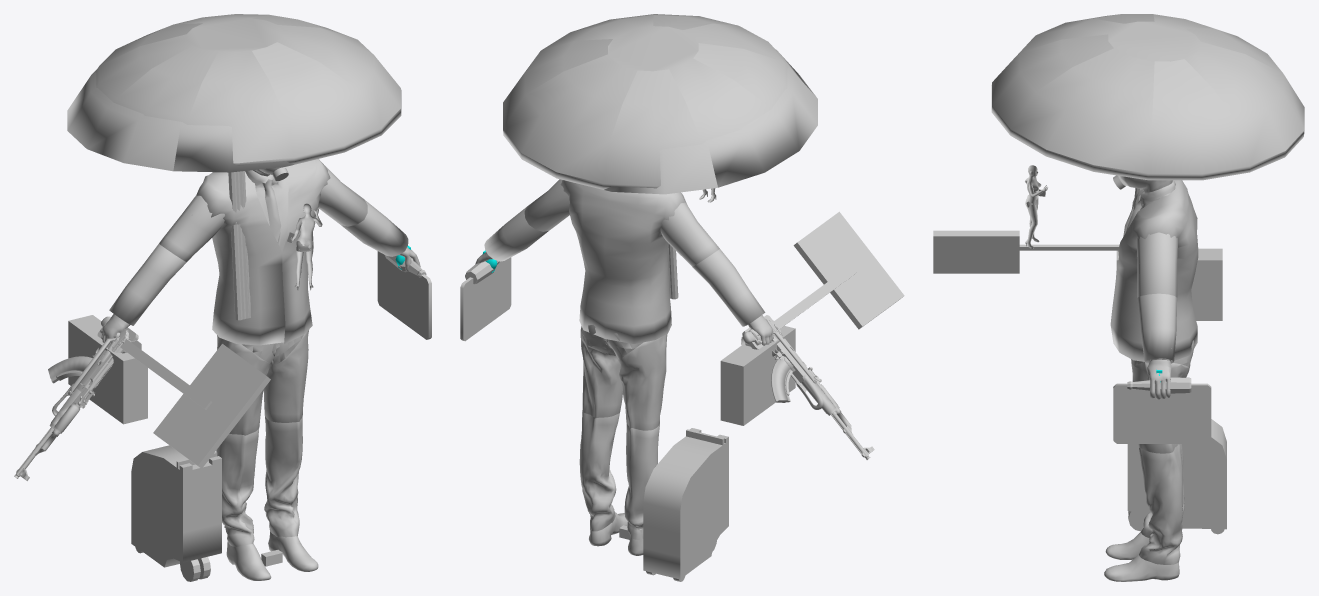
The model's file is civilian0_western.dae.
3 renders of one model, left to right at view 1: azimuth 30°, elevation 25°; view 2: azimuth 150°, elevation 25°; view 3: azimuth 270°, elevation 25°, orthographic. The views are drawn at different scales.
Parts seen in each view (by area): view 1: Umbrella004, Suit1, Umbrella1, trolley, ProtestSign, Handbag, LowLeg2, LowLeg1, ak47, ShoppingBag, UpLeg2, Suit3 (+11 smaller); view 2: Umbrella004, Suit1, trolley, Umbrella1, ProtestSign, Handbag, LowLeg2, UpLeg1, ak47, ShoppingBag, LowLeg1, UpLeg2 (+6 smaller); view 3: Umbrella004, Suit1, trolley, ShoppingBag, ProtestSign, LowLeg2, Suit5, Suit4, Handbag, Feet2, SittingBaby, UpLeg2 (+4 smaller).
Part boxes in pixels (x1,y1,x2,y2): Umbrella004: (95, 14, 401, 317); Suit1: (196, 159, 330, 345); Umbrella1: (67, 69, 293, 320); trolley: (131, 445, 221, 581); ProtestSign: (101, 333, 270, 468); Handbag: (68, 315, 147, 424); LowLeg2: (264, 416, 302, 537); LowLeg1: (216, 428, 258, 546); ak47: (14, 316, 129, 480); ShoppingBag: (377, 251, 431, 339); UpLeg2: (263, 329, 309, 422); Suit3: (109, 244, 186, 325); Umbrella004: (503, 14, 788, 189); Suit1: (560, 180, 686, 343); trolley: (643, 428, 728, 581); Umbrella1: (605, 49, 817, 299); ProtestSign: (760, 211, 904, 343); Handbag: (720, 326, 795, 425); LowLeg2: (579, 412, 619, 531); UpLeg1: (618, 334, 667, 430); ak47: (742, 319, 874, 459); ShoppingBag: (460, 257, 511, 341); LowLeg1: (624, 423, 659, 539); UpLeg2: (580, 326, 622, 418); Umbrella004: (991, 14, 1304, 210); Suit1: (1110, 180, 1198, 361); trolley: (1127, 419, 1226, 534); ShoppingBag: (1113, 383, 1211, 443); ProtestSign: (933, 230, 1119, 273); LowLeg2: (1139, 444, 1183, 564); Suit5: (1136, 232, 1177, 297); Suit4: (1137, 293, 1177, 363); Handbag: (1116, 248, 1222, 320); Feet2: (1104, 555, 1179, 581); SittingBaby: (1025, 165, 1047, 248); UpLeg2: (1132, 362, 1189, 453).
Bounding box in the file's own units: 1105 × 1381 × 900.
